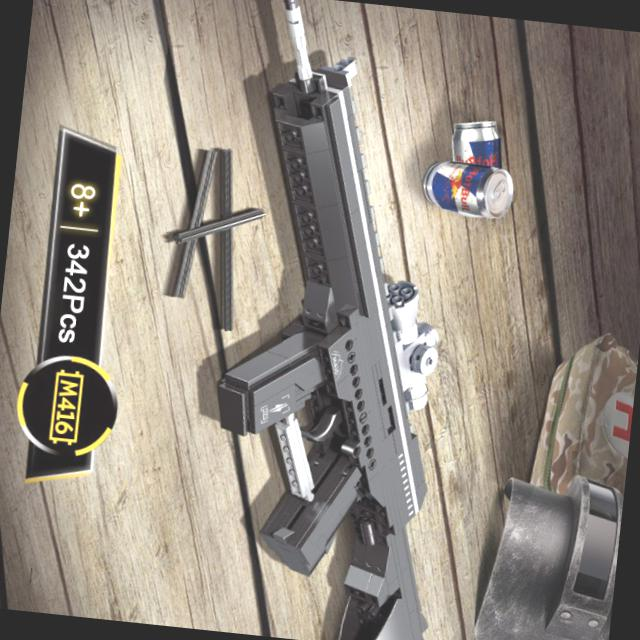long weapon: (143, 0, 509, 639)
